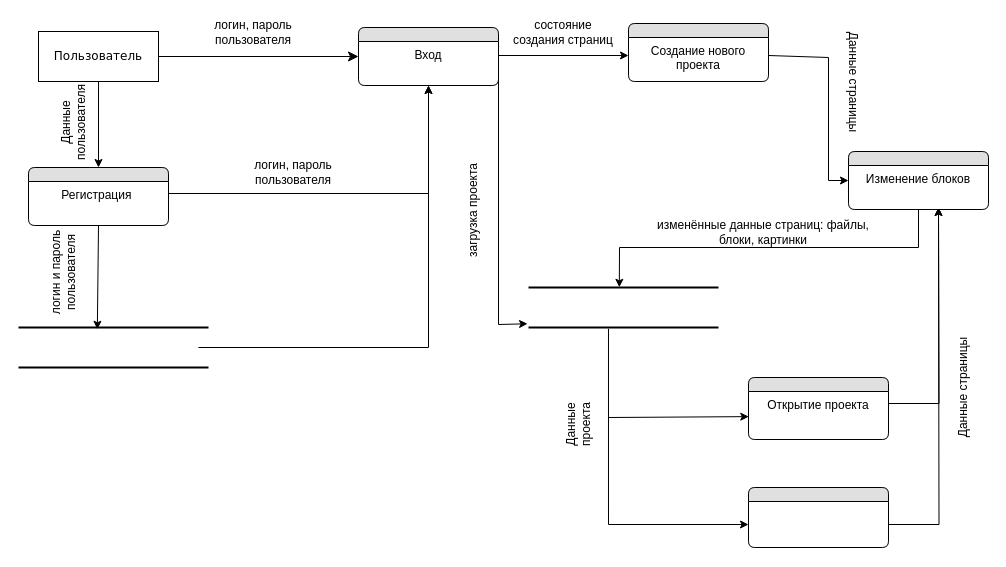
Some shapes in this 1006 by 567 pixel diagram are drawn without their labels. The centre of each missing label's shape, as x and y in pixels:
База данных пользователя: the point at 113,347
База данных проектов: the point at 623,307
Открытие проекта другого пользователя: the point at 818,517
